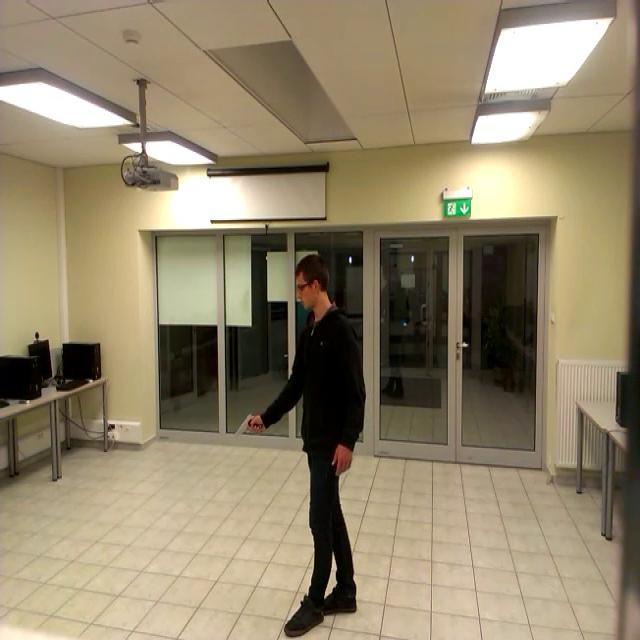Gun: (230, 405, 276, 452)
